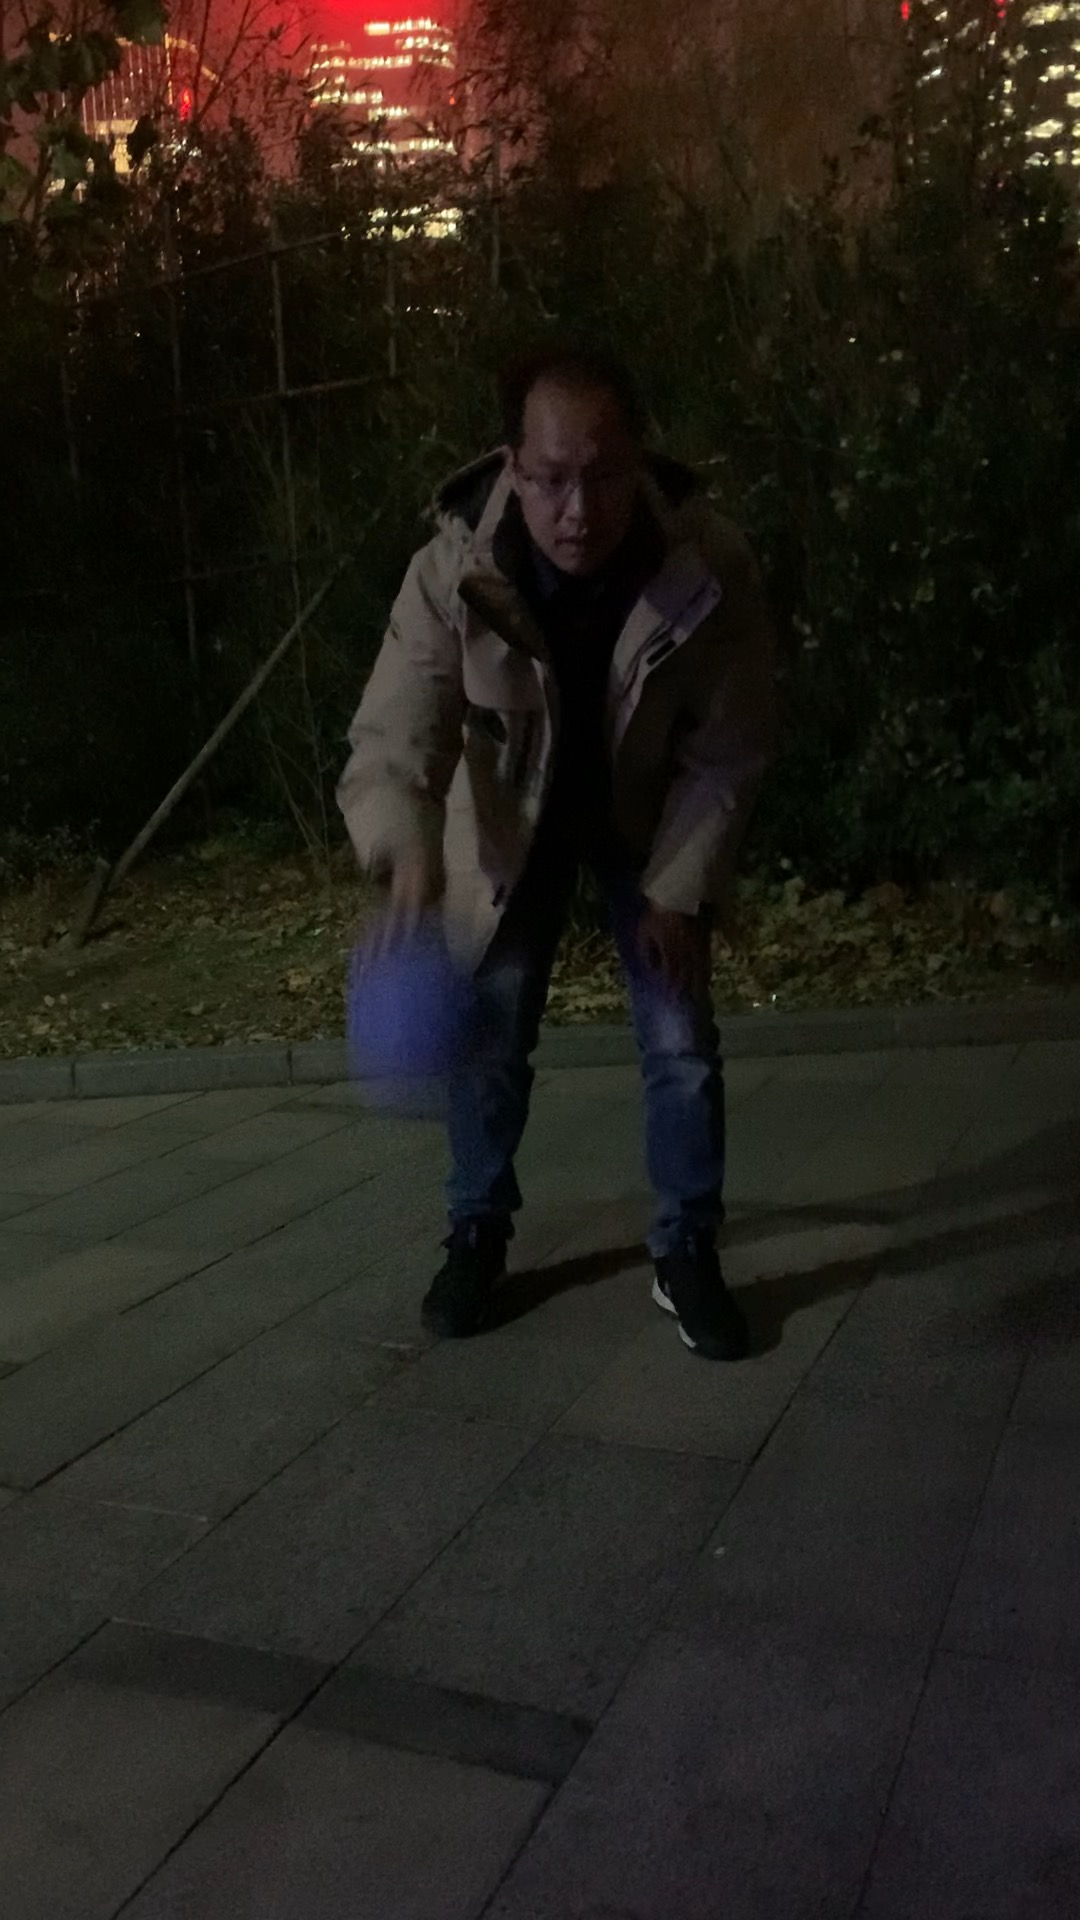ball: (348, 955, 509, 1098)
